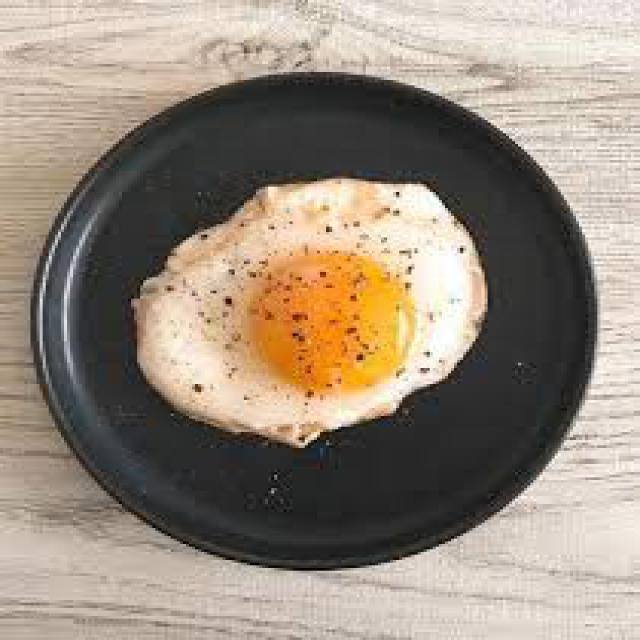Fried Egg: (132, 182, 491, 440)
